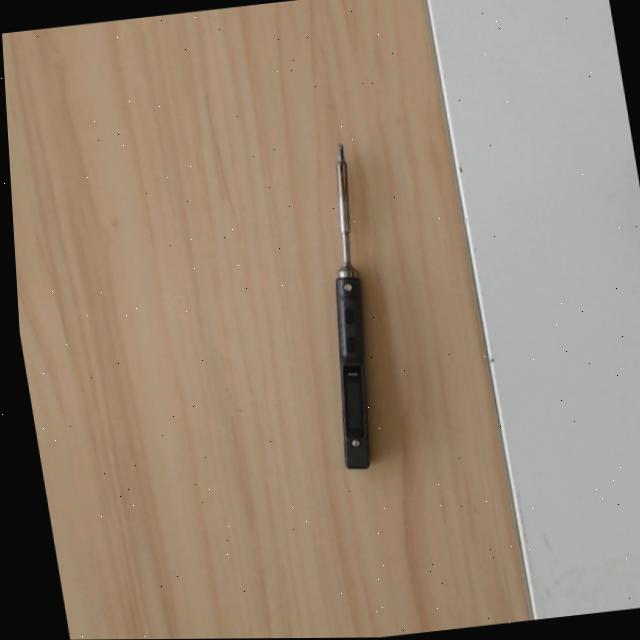Soldering-Iron: (329, 141, 370, 469)
